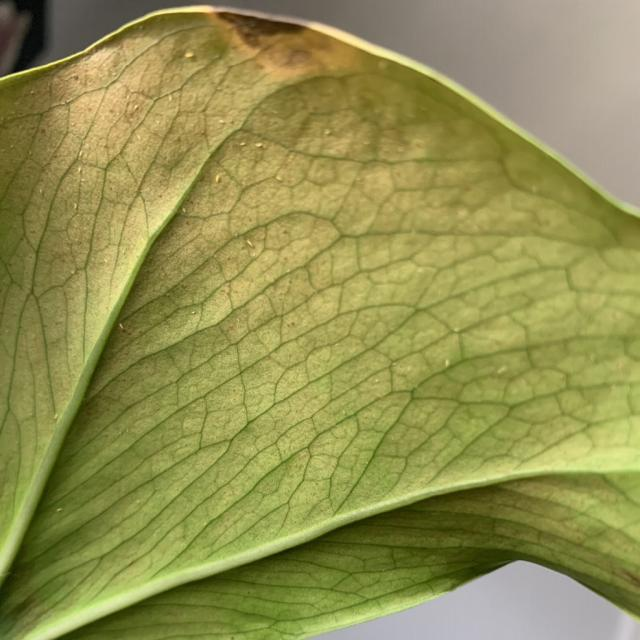Thrip-Larva-: (244, 237, 256, 250), (253, 138, 264, 149), (115, 320, 126, 331), (214, 172, 222, 186), (72, 199, 80, 213), (77, 147, 85, 159), (76, 164, 84, 175), (238, 140, 246, 148)
